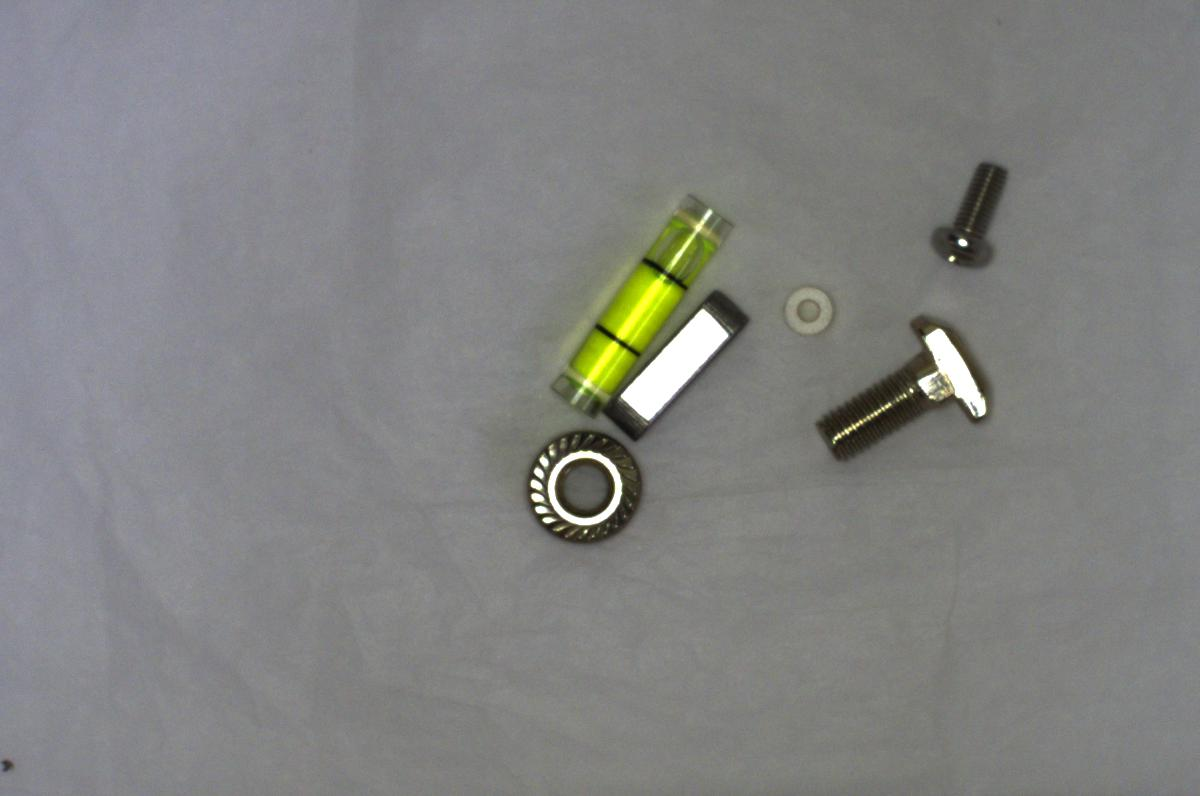Flange nut: (510, 420, 648, 545)
Horizontal bubble: (553, 195, 722, 418)
Keybar: (614, 282, 745, 452)
Plastic cushion pillar: (777, 278, 831, 334)
Round head screw: (926, 155, 1013, 281)
T-shaped screw: (801, 307, 997, 454)
